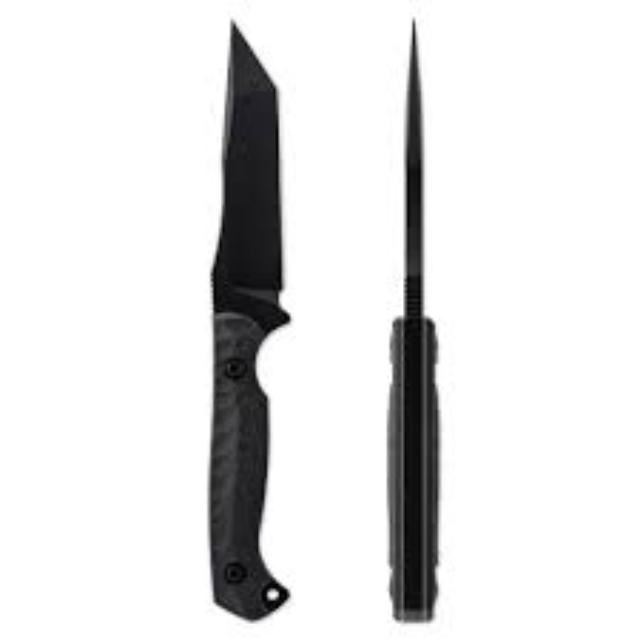Knife: (208, 14, 290, 620), (384, 14, 438, 620)
